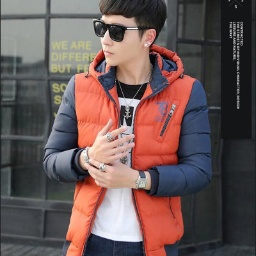face: (91, 1, 167, 66)
